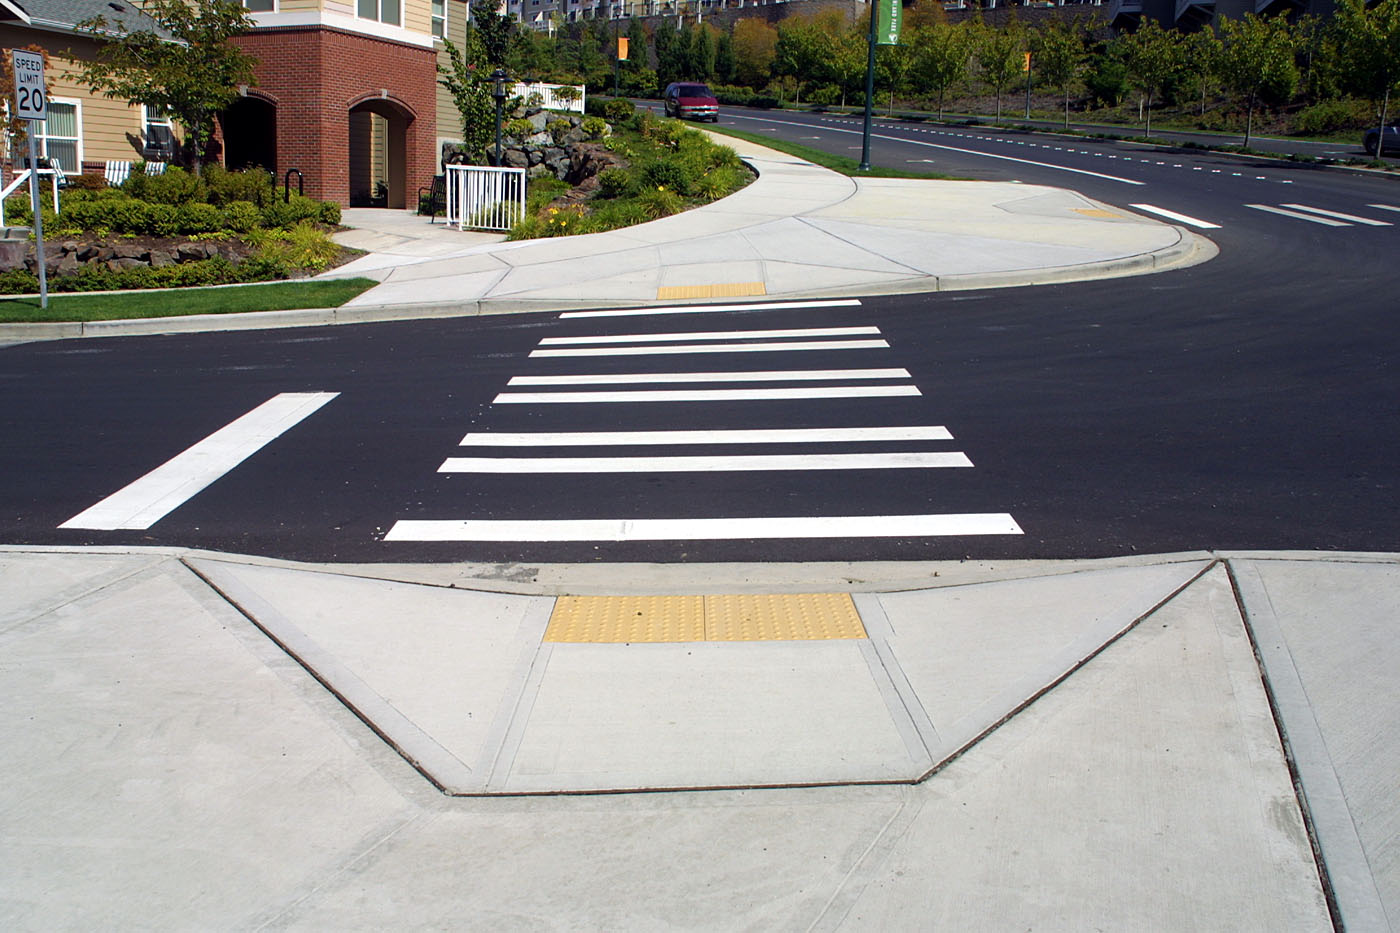ramp: (406, 463, 1006, 743), (562, 237, 888, 328)
